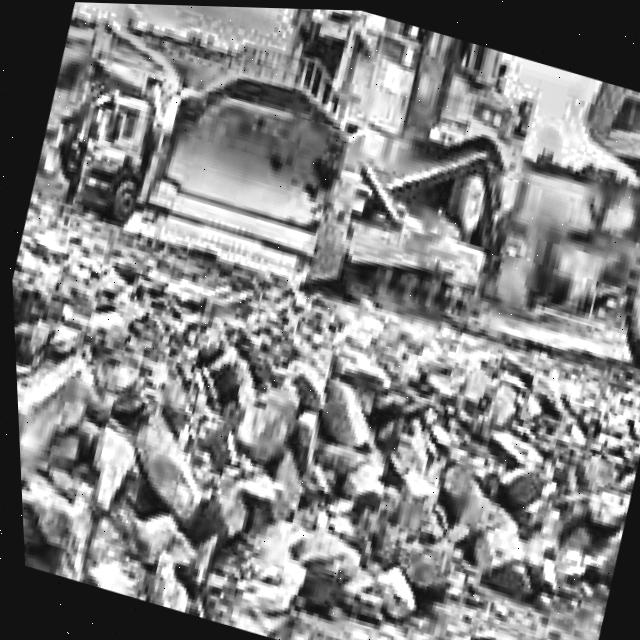buldozerpayloadergrader: (110, 3, 560, 344)
